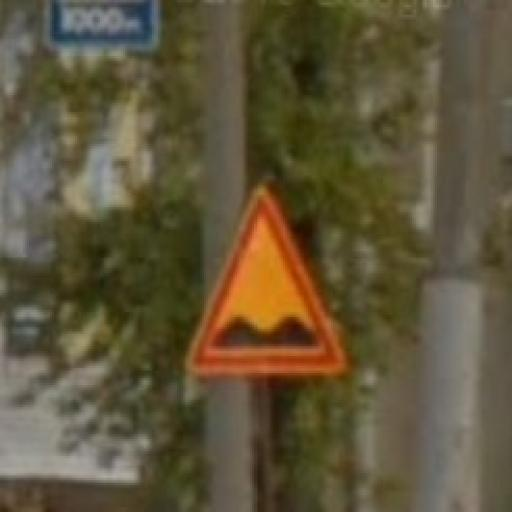traffic_sign: (188, 181, 349, 379)
